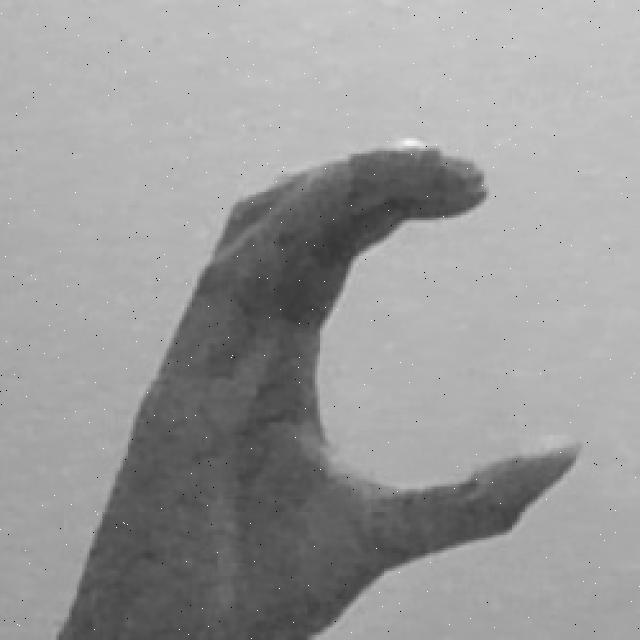C: (52, 140, 581, 640)
